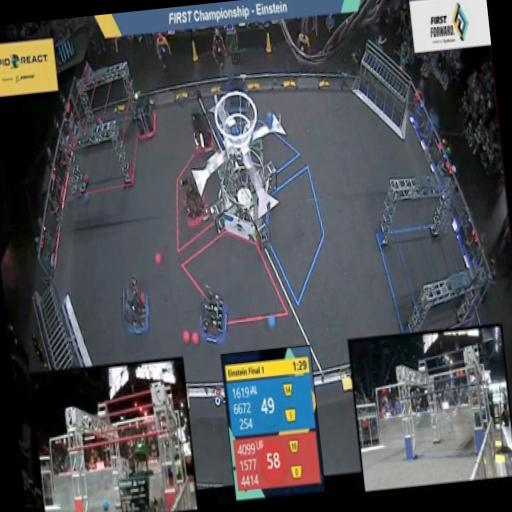robot: (192, 278, 234, 351), (176, 168, 214, 235), (116, 274, 154, 340), (128, 86, 161, 144), (188, 105, 218, 159), (224, 76, 252, 119)
